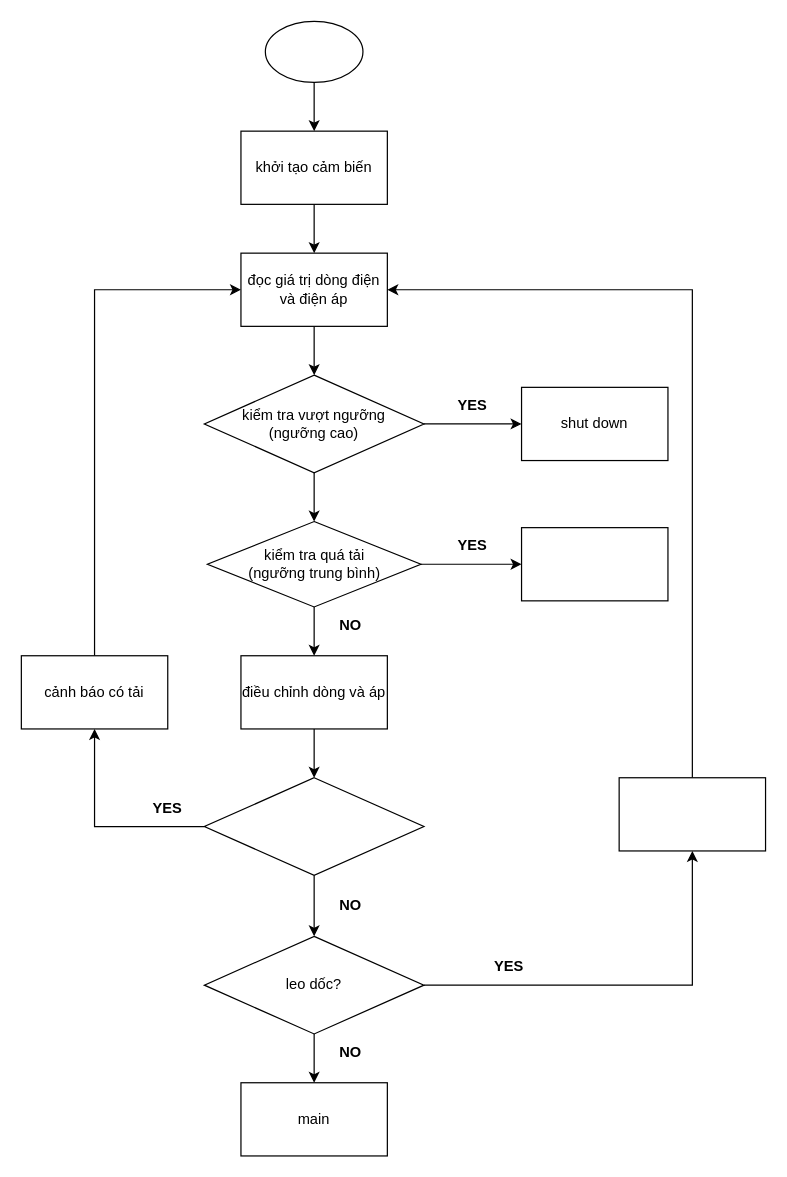
This 787x1177 diagram has some shape labels left out. Here are the shapes that lost their labels. From the top down, the centre of each, then its label:
At [313,51]: "start".
At [594,563]: "cảnh báo quá dòng, quá áp".
At [313,826]: "có tải?".
At [692,814]: "cảnh báo leo dốc".
